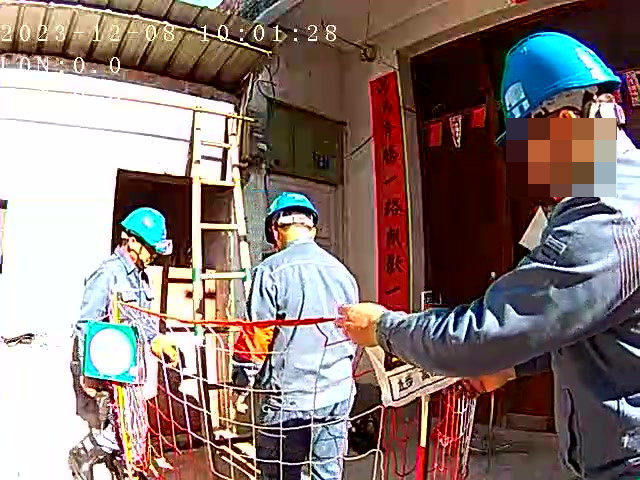badge: (231, 325, 277, 364)
downsuit: (256, 415, 353, 480)
halt: (491, 29, 640, 202), (265, 192, 321, 243), (117, 206, 169, 260)
hand: (333, 300, 386, 349), (230, 391, 249, 414)
inear: (531, 104, 590, 170), (124, 230, 144, 260)
intosign: (80, 320, 144, 387)
person: (361, 29, 640, 480), (230, 190, 360, 479), (67, 201, 178, 478)
upsuit: (376, 128, 640, 480), (231, 241, 360, 398), (77, 254, 160, 324)
